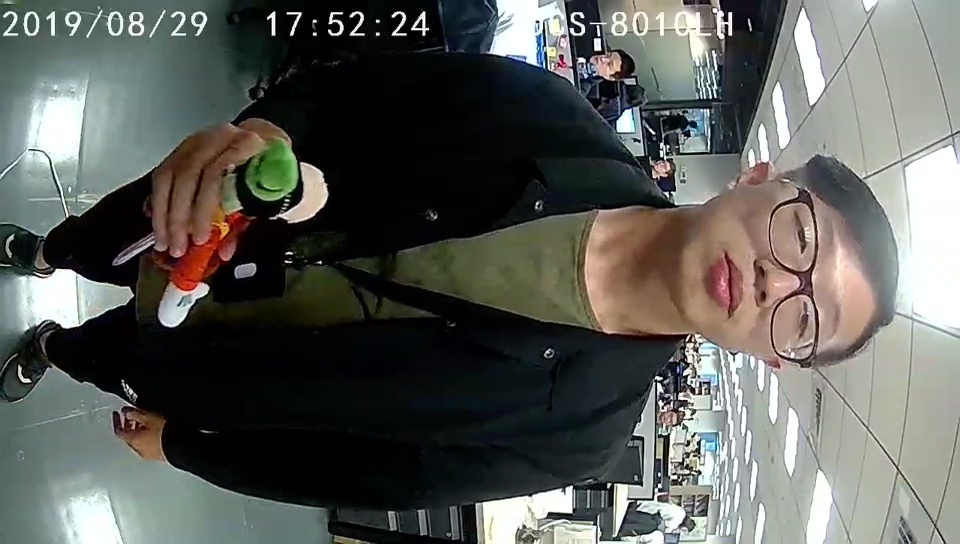goofy: (146, 135, 328, 329)
